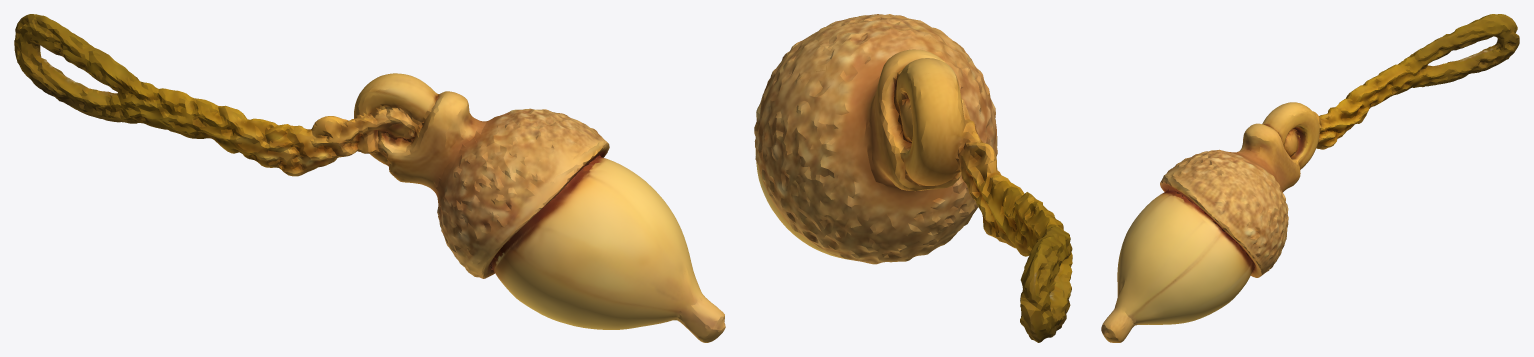
3 views of the same model, side by side, from view 1: azimuth 30°, elevation 25°; view 2: azimuth 150°, elevation 25°; view 3: azimuth 270°, elevation 25° (orthographic). The views are drawn at different scales.
Visible parts, largest first — view 1: GoldenAcornCharm; view 2: GoldenAcornCharm; view 3: GoldenAcornCharm.
Part boxes in pixels (bbox=[...]): GoldenAcornCharm: bbox=[14, 14, 725, 342]; GoldenAcornCharm: bbox=[754, 14, 1072, 342]; GoldenAcornCharm: bbox=[1101, 14, 1519, 342].
Bounding box in the file's own units: 1.73 × 0.8963 × 1.9.
Materials: 1 (1 with a texture image).
